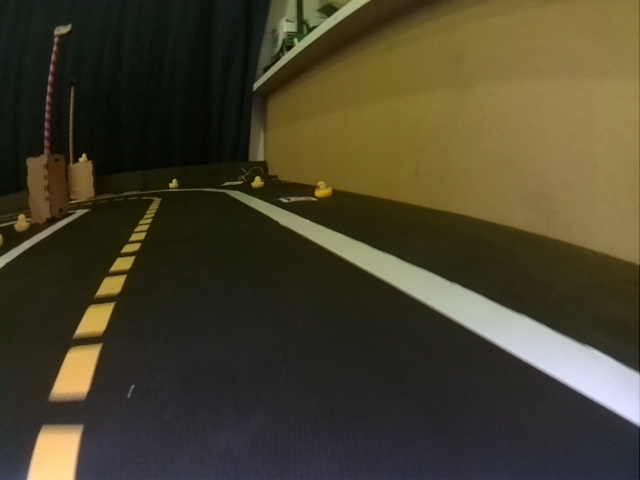Duckie: (315, 181, 333, 197), (15, 216, 29, 231), (251, 176, 263, 188), (170, 179, 179, 188), (80, 154, 88, 163)
QR code: (280, 197, 315, 205)
